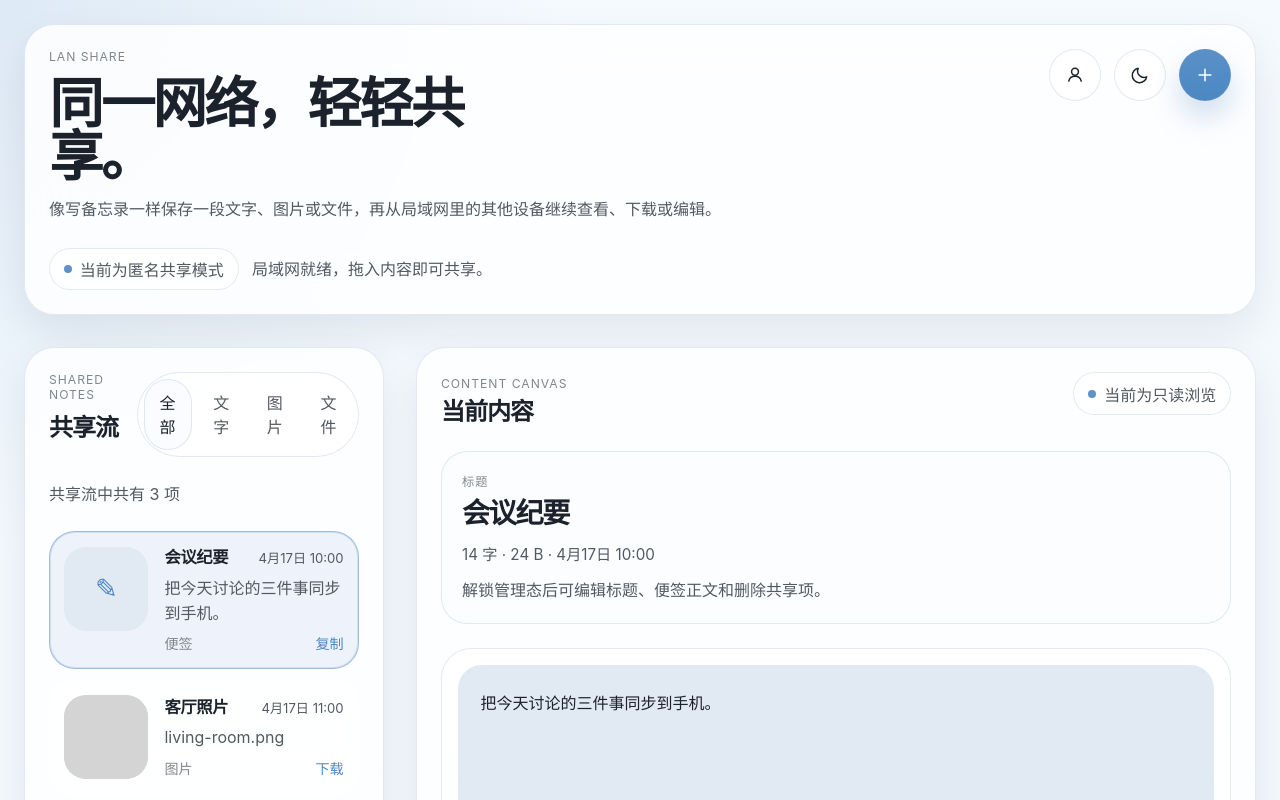
主题切换可用
Click the button named "切换到深色主题": (1140, 75) [1114, 49, 1166, 101]
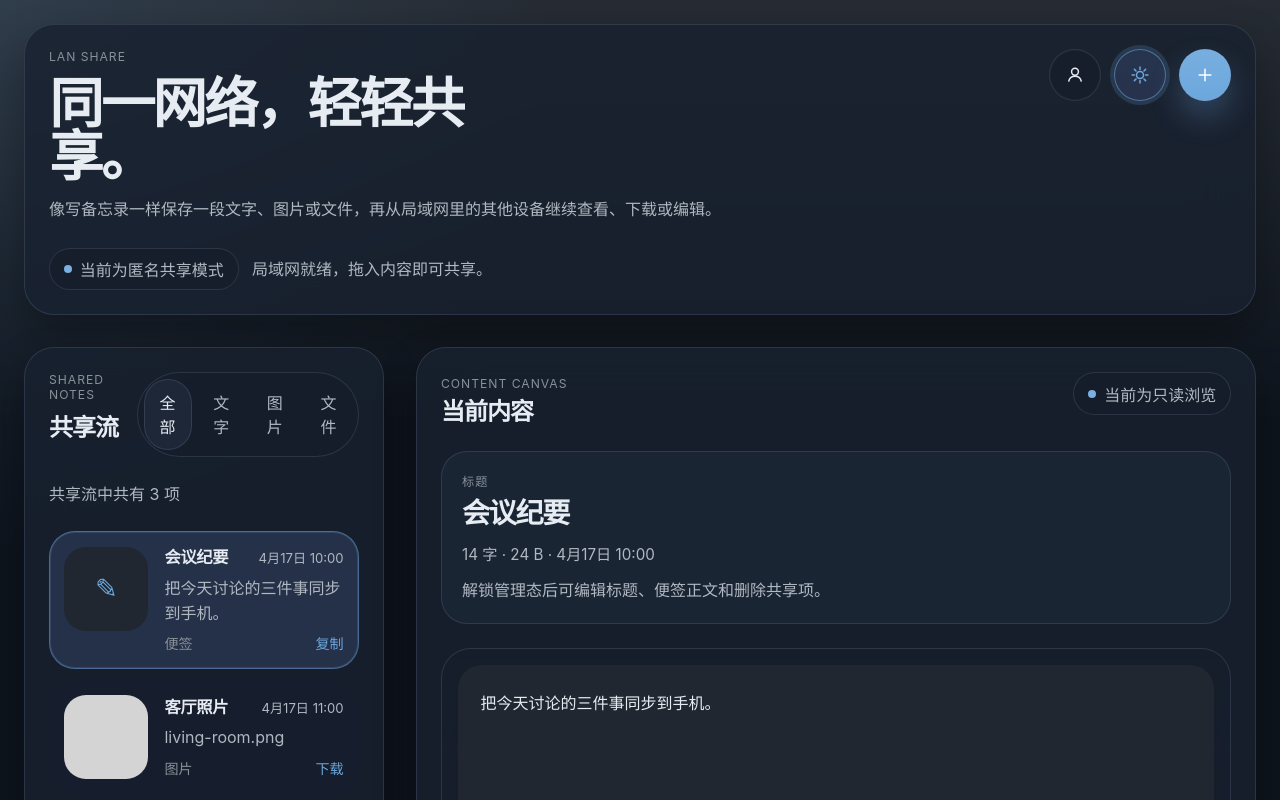
Expected: the button named "切换到浅色主题" is shown, [1114, 49, 1166, 101]
